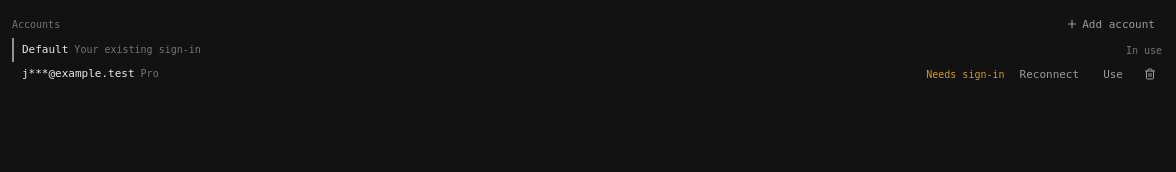
Test: HarnessAccountsRow › masks an address that names an unlabeled account, including in the failure message main builds from it
expect the text "j***@example.test" is shown: met, box [22,66,135,82]
Click the button named "Remove j***@example.test" at (1150, 74), box [1138,62,1162,86]
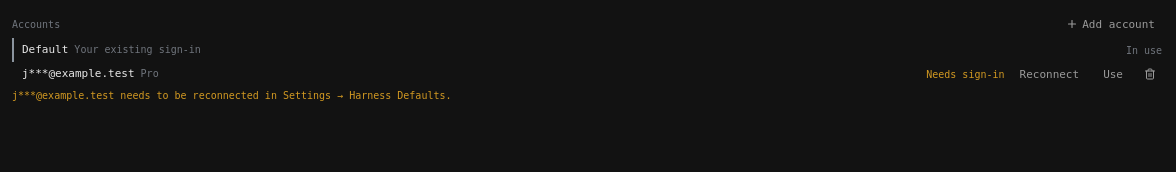
expect the message reads "j***@example.test needs to be reconnected in Settings → Harness Defaults.": met, box [12,90,452,101]
